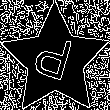P_S: (31, 31, 80, 90)
